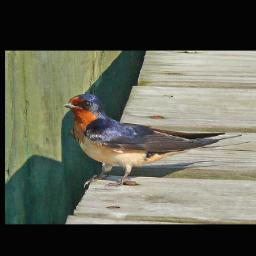Swallow: (62, 93, 223, 189)
